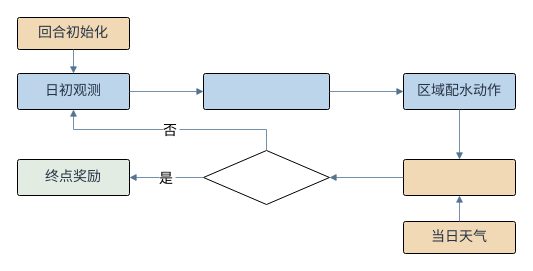
Image size: 533x271. Some labels were removed from this diagram. The shapes that lost their labels are listed below. From the top down, each one's centre as x and y in pixels, then its label:
the point at 266,91: 联合配置策略
the point at 266,177: 完成81日
the point at 459,177: 环境状态转移
